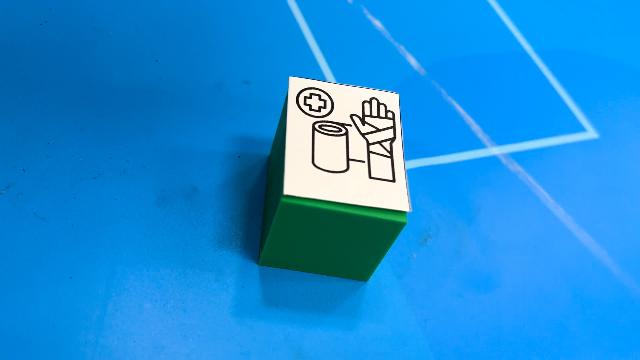bandage: (257, 76, 411, 282)
